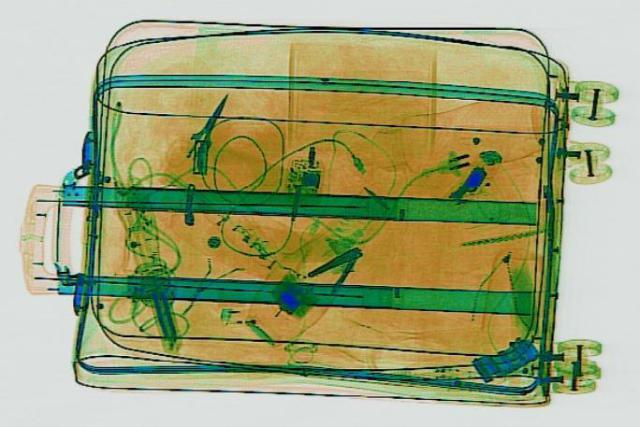Knife: (178, 89, 238, 160)
